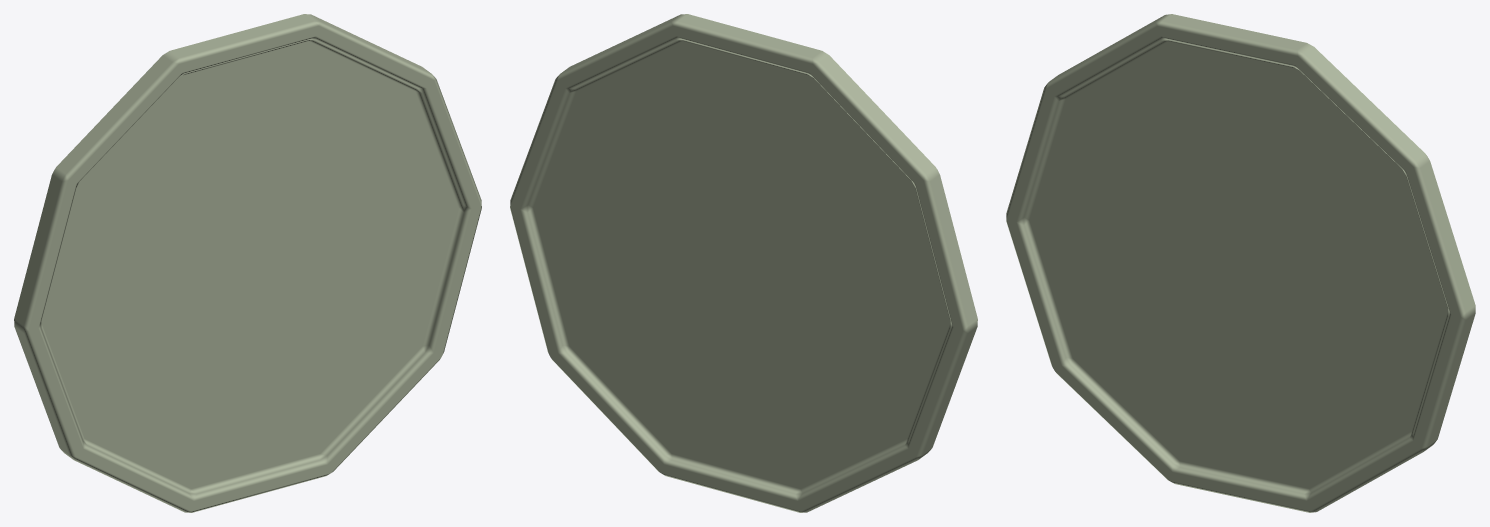
Rendered from hong_kong_70s_coin.glb.
The picture shows the model from 3 angles, left to right: view 1: azimuth 30°, elevation 25°; view 2: azimuth 150°, elevation 25°; view 3: azimuth 330°, elevation 25°; orthographic projection.
Parts seen in each view (by area): view 1: Circle.002; view 2: Circle.002; view 3: Circle.002.
Part boxes in pixels (x1,y1,x2,y2): Circle.002: (14,14,481,512); Circle.002: (510,14,977,512); Circle.002: (1006,14,1475,512).
Size of the model in its own units: 2.8 by 2.69 by 0.1502.
Materials: 1 (1 with a texture image).
